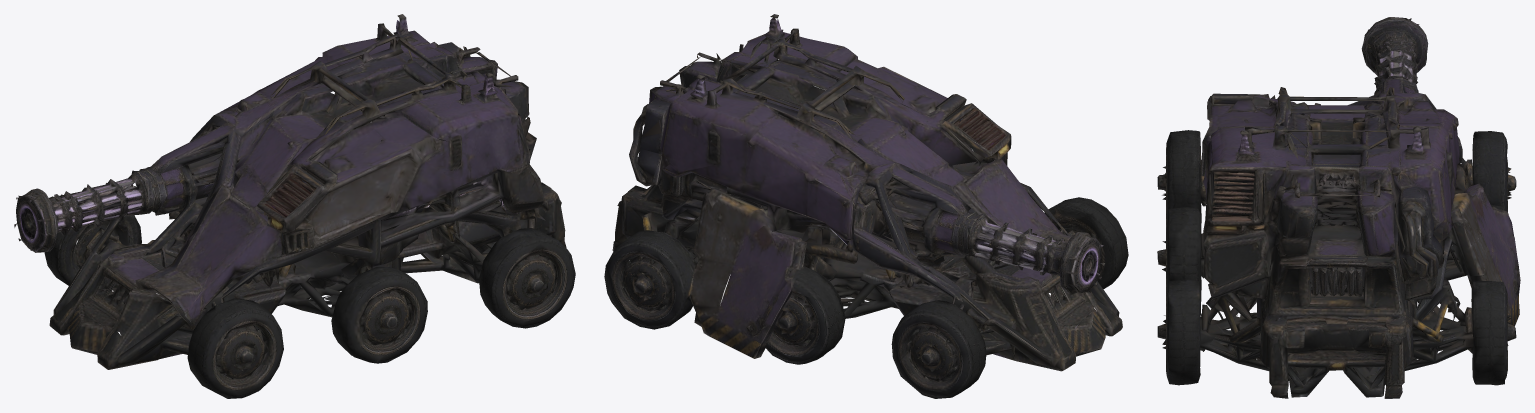
The model's file is grinder.glb.
The picture shows the model from 3 angles, left to right: view 1: azimuth 30°, elevation 25°; view 2: azimuth 150°, elevation 25°; view 3: azimuth 270°, elevation 25°; orthographic projection. The views are drawn at different scales.
Visible parts, largest first — view 1: Hull; view 2: Hull; view 3: Hull.
Part boxes in pixels (left/top/right/bottom): Hull: left=14, top=14, right=575, bottom=398; Hull: left=604, top=14, right=1128, bottom=398; Hull: left=1157, top=17, right=1520, bottom=398.
Bounding box in the file's own units: 2 × 0.9121 × 1.22.
1 material, 1 textured.
